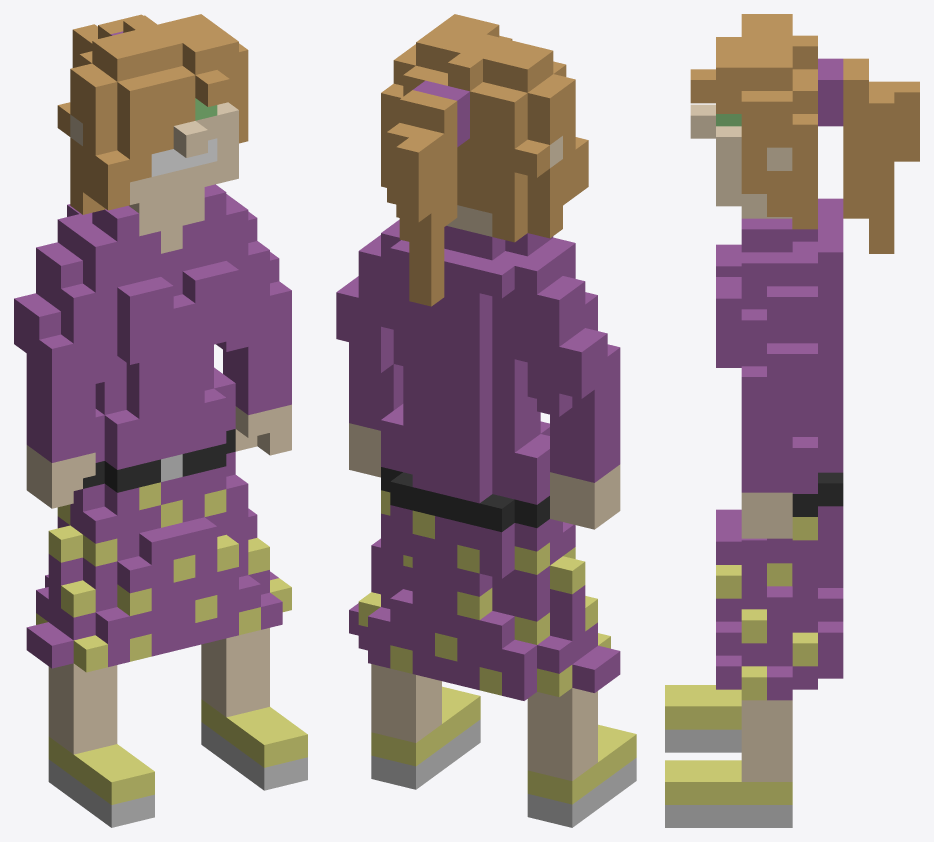
The model's file is girl1_v1.fbx.
3 renders of one model, left to right at view 1: azimuth 30°, elevation 25°; view 2: azimuth 150°, elevation 25°; view 3: azimuth 270°, elevation 25°, orthographic. The views are drawn at different scales.
Visible parts, largest first — view 1: girl1; view 2: girl1; view 3: girl1.
Boxes of the visible parts, x1,y1,x2,y2 form: girl1: (14,14,307,827); girl1: (336,14,636,827); girl1: (665,14,919,827).
Size of the model in its own units: 11 by 32 by 10.
